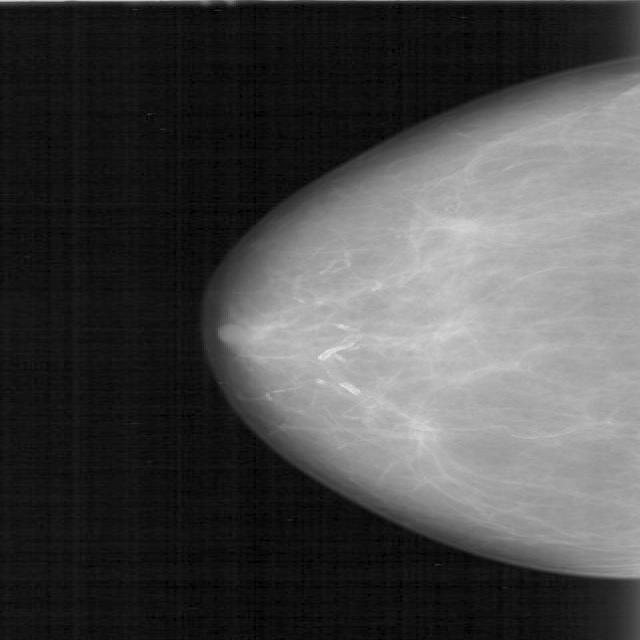tumour: (428, 214, 478, 233)
